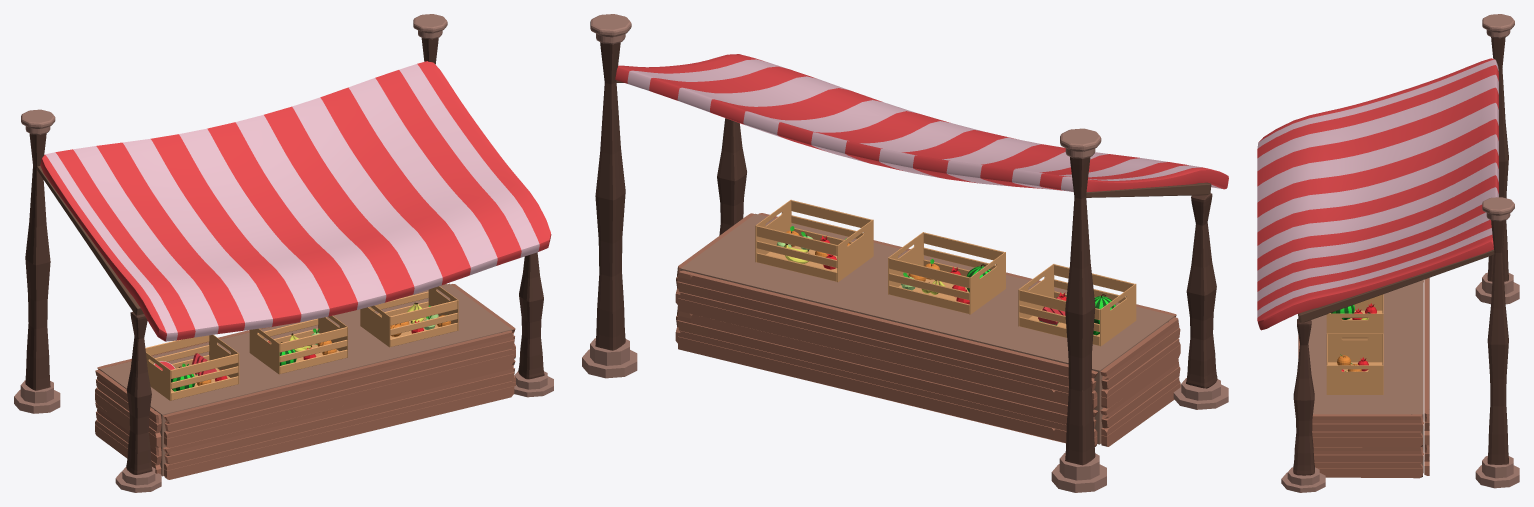
File: Market2.fbx
3 renders of one model, left to right at view 1: azimuth 30°, elevation 25°; view 2: azimuth 150°, elevation 25°; view 3: azimuth 270°, elevation 25°, orthographic. The views are drawn at different scales.
Visible parts, largest first — view 1: Plane, Cube.015, Cube.002, Cube.017, Cube.016, Cube.013, Cube.003, Cube.012, Cube.014, Cube.009, Cube.022, Cube.026 (+7 smaller); view 2: Plane, Cube.015, Cube.012, Cube.006, Cube.005, Cube.004, Cube.008, Cube.013, Cube.014, Cube.026, Cube.022, Cylinder.003 (+7 smaller); view 3: Plane, Cube.015, Cube.019, Cube.012, Cube.028, Cube.013, Cylinder.003, Cube.020, Cube.024, Cylinder.001, Cube.006, Cylinder.007.
Boxes of the visible parts, left/top/right/bottom form: Plane: left=40, top=61, right=551, bottom=341; Cube.015: left=99, top=283, right=512, bottom=476; Cube.002: left=163, top=330, right=514, bottom=431; Cube.017: left=163, top=364, right=514, bottom=464; Cube.016: left=164, top=349, right=514, bottom=447; Cube.013: left=126, top=252, right=544, bottom=474; Cube.003: left=164, top=381, right=514, bottom=479; Cube.012: left=25, top=38, right=438, bottom=390; Cube.014: left=95, top=369, right=161, bottom=474; Cube.009: left=145, top=335, right=238, bottom=400; Cube.022: left=258, top=318, right=347, bottom=373; Cube.026: left=368, top=291, right=457, bottom=346; Plane: left=615, top=54, right=1228, bottom=191; Cube.015: left=680, top=213, right=1174, bottom=444; Cube.012: left=595, top=42, right=1095, bottom=465; Cube.006: left=677, top=270, right=1097, bottom=391; Cube.005: left=677, top=311, right=1097, bottom=427; Cube.004: left=678, top=292, right=1097, bottom=409; Cube.008: left=678, top=331, right=1097, bottom=446; Cube.013: left=717, top=118, right=1217, bottom=388; Cube.014: left=1100, top=317, right=1180, bottom=446; Cube.026: left=756, top=200, right=871, bottom=281; Cube.022: left=889, top=232, right=1004, bottom=313; Cylinder.003: left=582, top=338, right=1106, bottom=492; Plane: left=1257, top=58, right=1498, bottom=330; Cube.015: left=1308, top=280, right=1423, bottom=473; Cube.019: left=1312, top=414, right=1423, bottom=478; Cube.012: left=1487, top=37, right=1508, bottom=464; Cube.028: left=1326, top=333, right=1383, bottom=394; Cube.013: left=1293, top=318, right=1314, bottom=475; Cylinder.003: left=1475, top=272, right=1519, bottom=488; Cube.020: left=1298, top=249, right=1494, bottom=322; Cube.024: left=1326, top=294, right=1383, bottom=339; Cylinder.001: left=1482, top=14, right=1514, bottom=221; Cube.006: left=1424, top=278, right=1429, bottom=429; Cylinder.007: left=1281, top=467, right=1325, bottom=492.
Size of the model in its own units: 1242 by 808 by 682.
